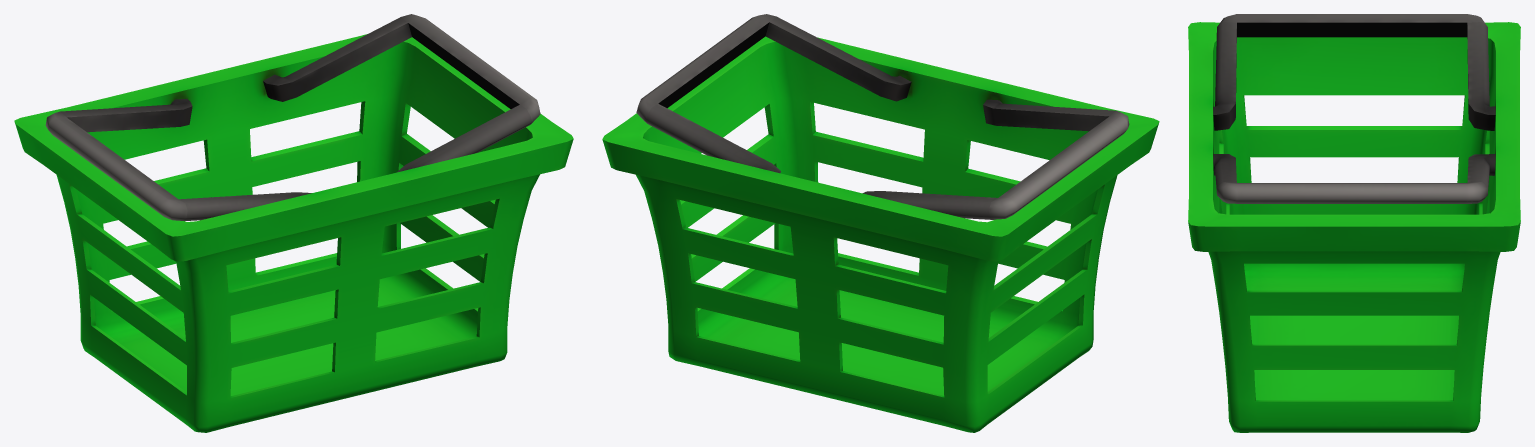
File: CommBasket01.FBX
3 renders of one model, left to right at view 1: azimuth 30°, elevation 25°; view 2: azimuth 150°, elevation 25°; view 3: azimuth 270°, elevation 25°, orthographic. The views are drawn at different scales.
Visible parts, largest first — view 1: CommBasket01; view 2: CommBasket01; view 3: CommBasket01.
Boxes of the visible parts, x1,y1,x2,y2 form: CommBasket01: (14,14,573,432); CommBasket01: (602,14,1159,432); CommBasket01: (1188,14,1520,432).
Size of what is drawn, in the model's own units: 0.6673 by 0.4023 by 0.4593.
